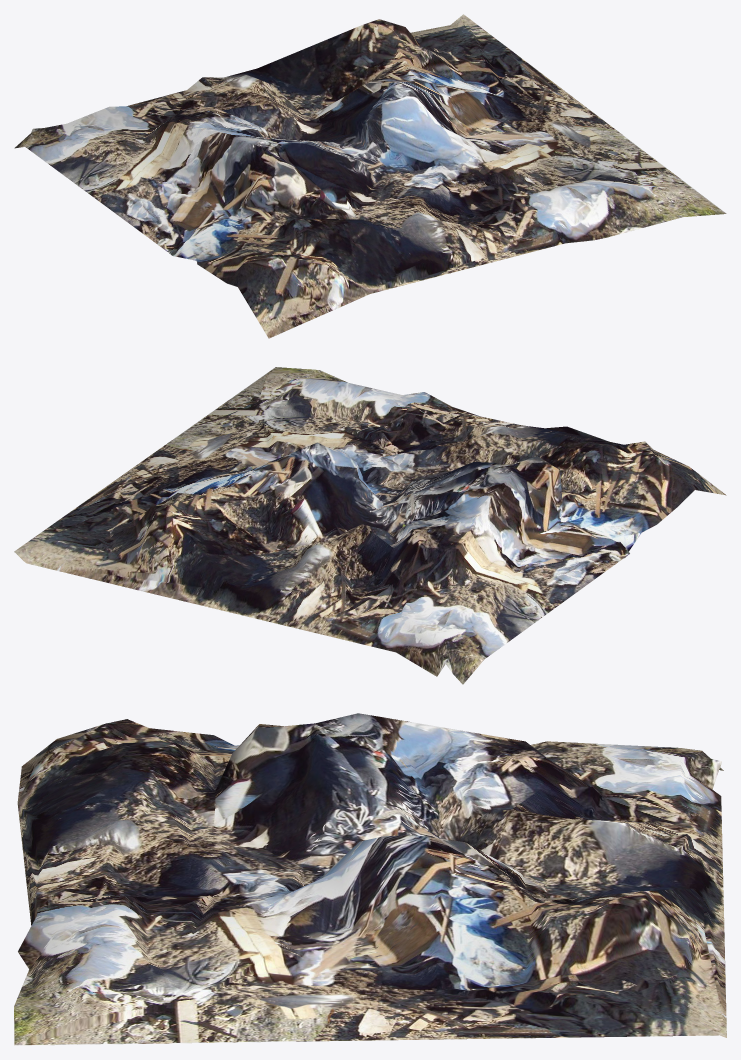
Rendered from junkpile_300.fbx.
The picture shows the model from 3 angles, top to bottom: view 1: azimuth 30°, elevation 25°; view 2: azimuth 150°, elevation 25°; view 3: azimuth 270°, elevation 25°; orthographic projection. The views are drawn at different scales.
Visible parts, largest first — view 1: U3DMesh; view 2: U3DMesh; view 3: U3DMesh.
Part boxes in pixels (box(x1,y1,x2,y2)): U3DMesh: box(14, 14, 726, 338); U3DMesh: box(14, 367, 726, 684); U3DMesh: box(14, 713, 726, 1045).
Size of the model in its own units: 64.25 by 12.01 by 64.15.
